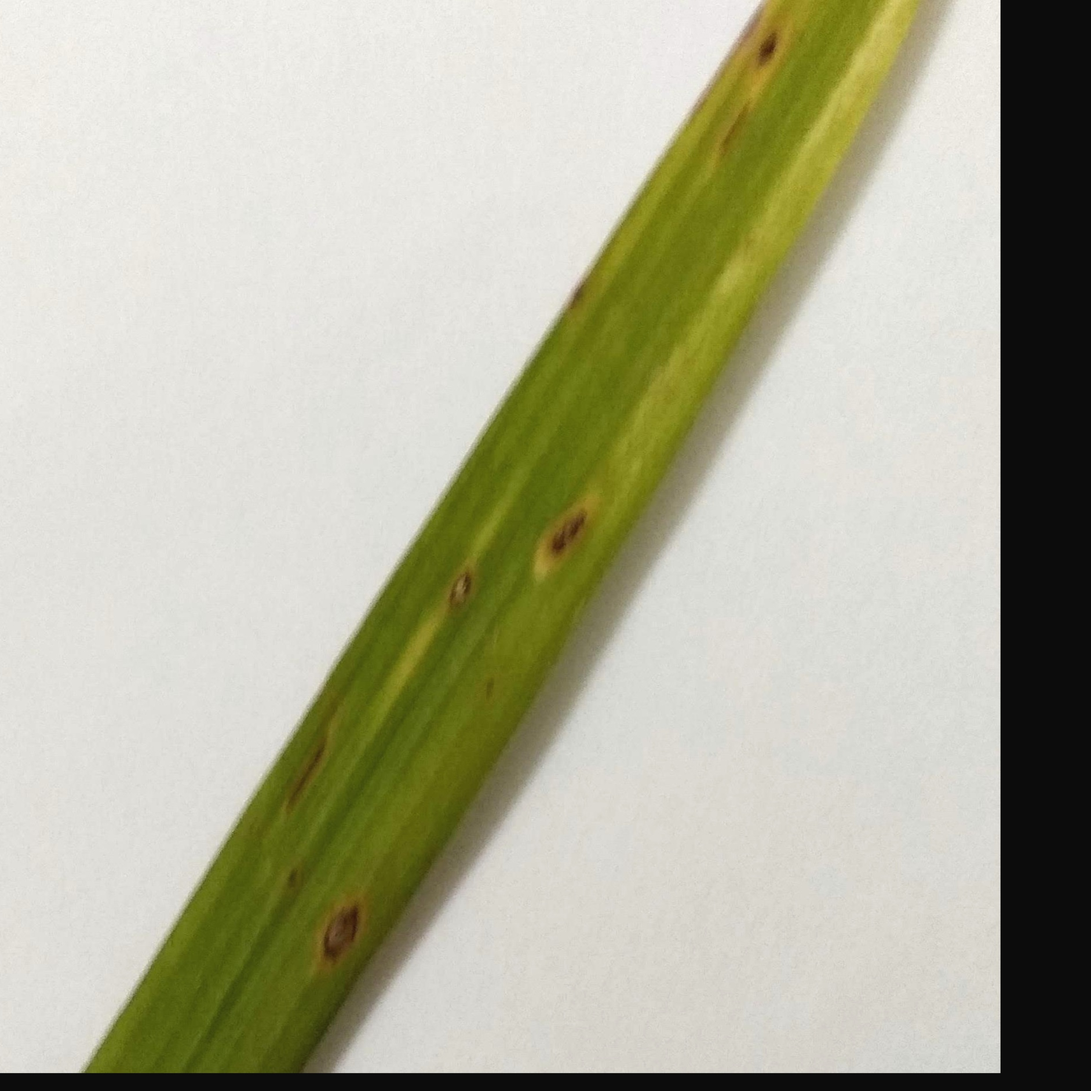Brown_Spot: (305, 869, 374, 979), (530, 483, 593, 585), (734, 21, 785, 70)
